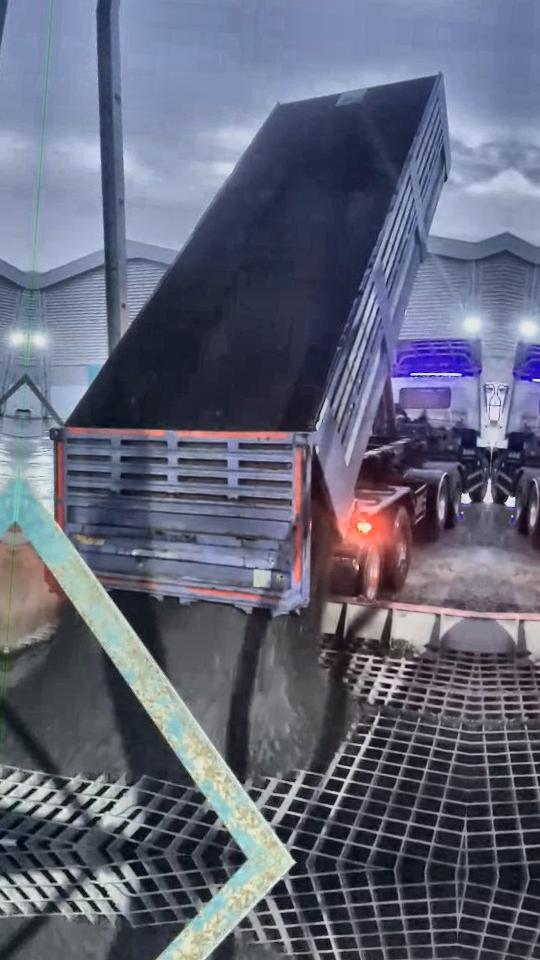gravel: (110, 591, 333, 783), (1, 605, 188, 783)
